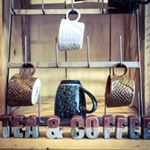cups: (52, 76, 100, 125), (102, 61, 138, 110), (6, 62, 42, 111), (55, 7, 87, 54)
